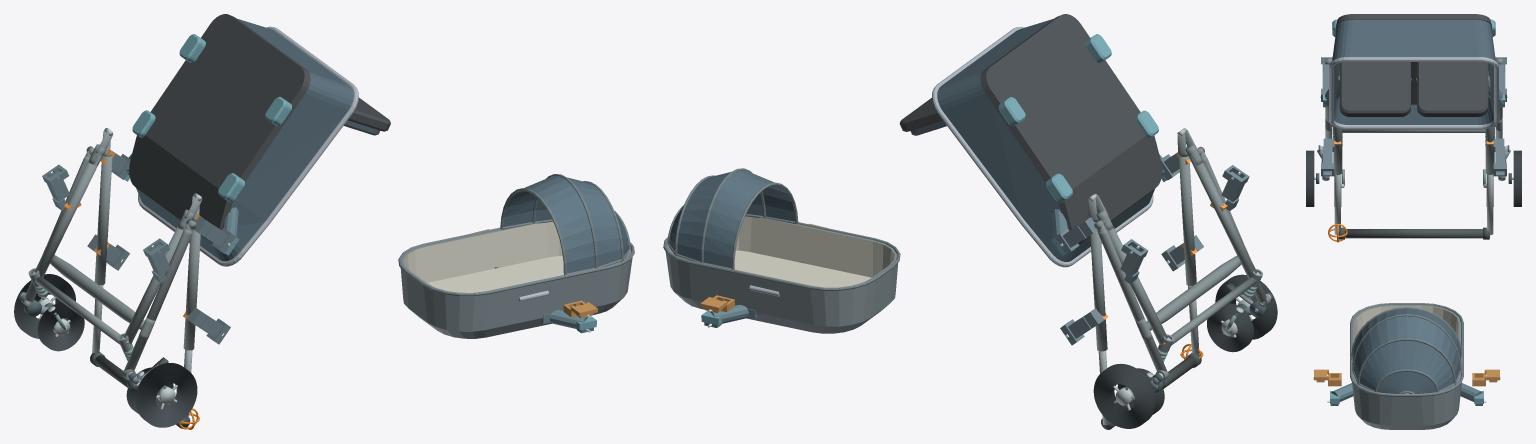
Rendered from D31_w650_state3_wheel_S.glb.
The picture shows the model from 3 angles, left to right: view 1: azimuth 30°, elevation 25°; view 2: azimuth 150°, elevation 25°; view 3: azimuth 270°, elevation 25°; orthographic projection. The views are drawn at different scales.
Parts seen in each view (by area): view 1: D31_Lower, D31_Upper, RL_tire.011, FR_tire.011, main_upper_1.012, main_lower_1.012, V46_rearbar.011, V46_rear_leg_-1.011, main_upper_-1.012, RR_tire.011, main_lower_-1.012, front_fixed_round_tube.011 (+5 smaller); view 2: D31_Lower, D31_Upper, RR_tire.011, FL_tire.011, main_upper_-1.012, V46_rearbar.011, main_lower_-1.012, V46_rear_leg_1.011, main_upper_1.012, RL_tire.011, main_lower_1.012, front_fixed_round_tube.011 (+5 smaller); view 3: D31_Lower, D31_Upper, round_handle.013, D31_Upper_Mount_H, front_fixed_round_tube.011, RL_tire.011, RR_tire.011, Universal_Cabin_Receiver_H_1, Universal_Cabin_Receiver_H_-1, main_upper_1.012, main_upper_-1.012, handle_slider_1.013 (+6 smaller).
Boxes of the visible parts, x1,y1,x2,y2 form: D31_Lower: (129,14,390,266); D31_Upper: (398,174,634,338); RL_tire.011: (135,363,197,427); FR_tire.011: (37,302,84,351); main_upper_1.012: (94,155,112,285); main_lower_1.012: (34,155,101,277); V46_rearbar.011: (50,255,144,329); V46_rear_leg_-1.011: (124,228,192,370); main_upper_-1.012: (183,221,200,350); RR_tire.011: (14,274,75,338); main_lower_-1.012: (123,225,186,344); front_fixed_round_tube.011: (35,276,120,344); D31_Lower: (899,14,1162,267); D31_Upper: (663,168,900,333); RR_tire.011: (1093,363,1155,428); FL_tire.011: (1207,303,1253,352); main_upper_-1.012: (1179,156,1196,285); V46_rearbar.011: (1146,255,1241,330); main_lower_-1.012: (1190,156,1256,278); V46_rear_leg_1.011: (1098,229,1166,371); main_upper_1.012: (1090,222,1107,351); RL_tire.011: (1215,274,1277,339); main_lower_1.012: (1105,226,1167,345); front_fixed_round_tube.011: (1171,277,1256,345); D31_Lower: (1329,14,1498,129); D31_Upper: (1350,303,1463,429); round_handle.013: (1345,229,1489,238); D31_Upper_Mount_H: (1327,383,1486,405); front_fixed_round_tube.011: (1342,129,1485,132); RL_tire.011: (1306,150,1314,206); RR_tire.011: (1513,150,1521,206); Universal_Cabin_Receiver_H_1: (1493,138,1506,176); Universal_Cabin_Receiver_H_-1: (1321,138,1334,176); main_upper_1.012: (1485,126,1494,174); main_upper_-1.012: (1333,126,1342,174); handle_slider_1.013: (1487,174,1493,235).
Size of the model in its own units: 1.9 by 1.09 by 0.766.
